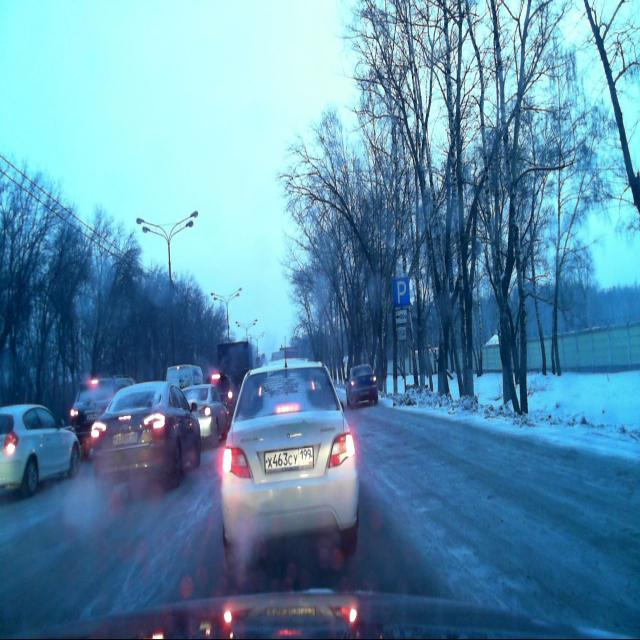road sign: (393, 276, 410, 307), (394, 309, 407, 324)
